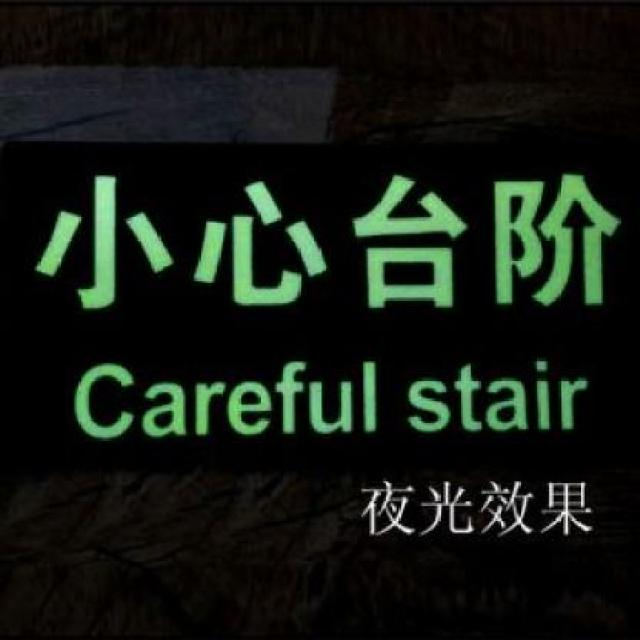exit_sign: (22, 148, 616, 456)
